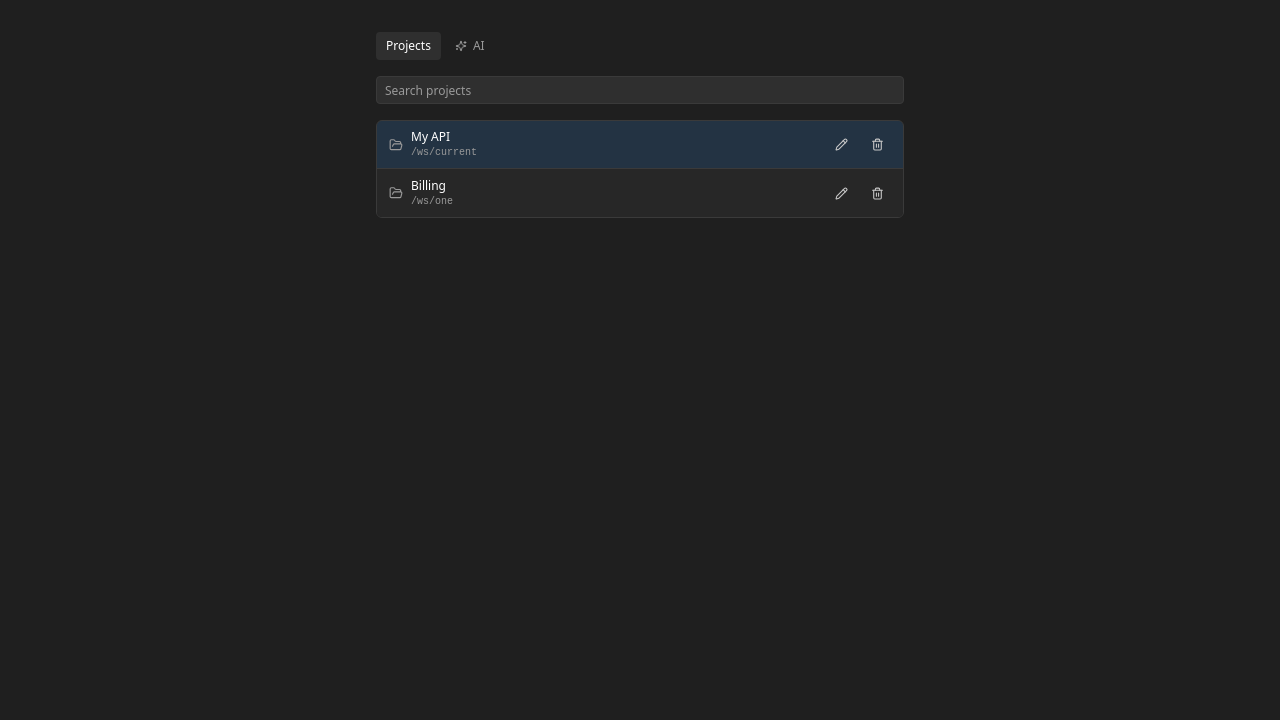
Test: Dashboard › removes a project from the list without deleting files
Expected: the text "Billing" is shown, 411,176 -> 446,194
Click the 2nd button titled "Delete project" at coordinates (877, 193), box 863,179 -> 891,207
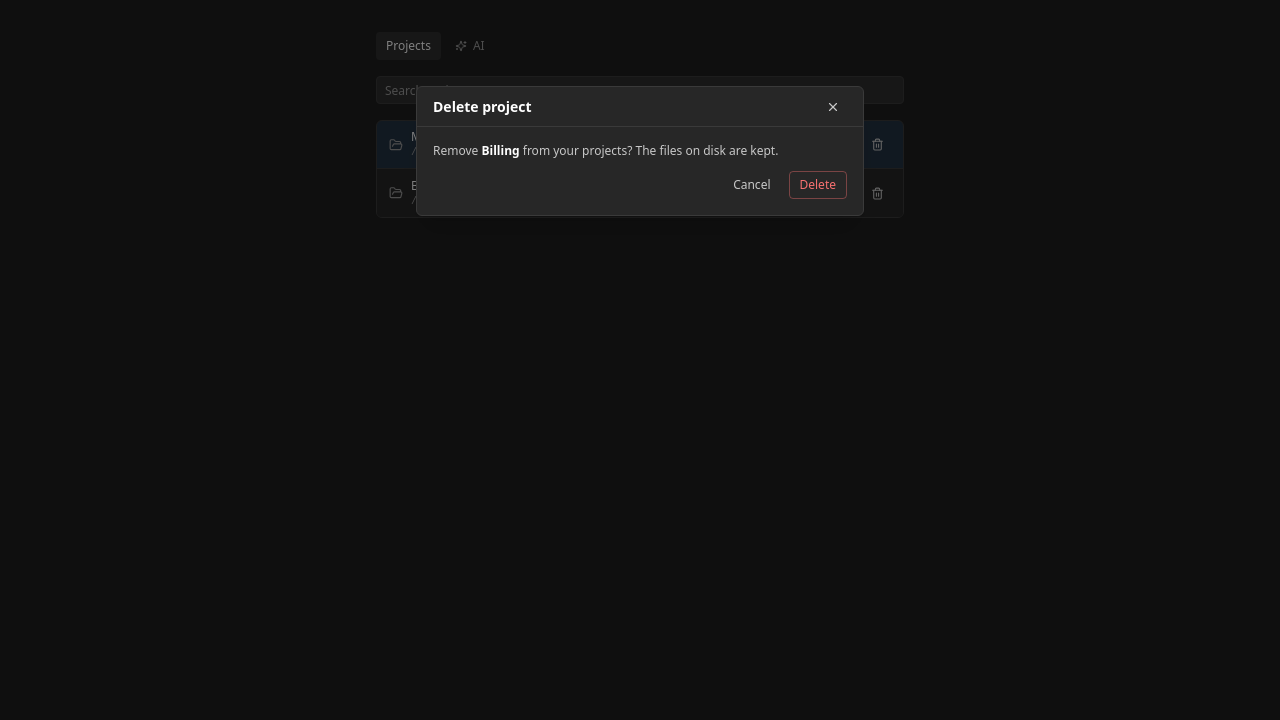
Result: the text "Delete project" is shown at 433,97 -> 532,117
Click the button "Delete" at coordinates (818, 185), box 788,171 -> 847,199
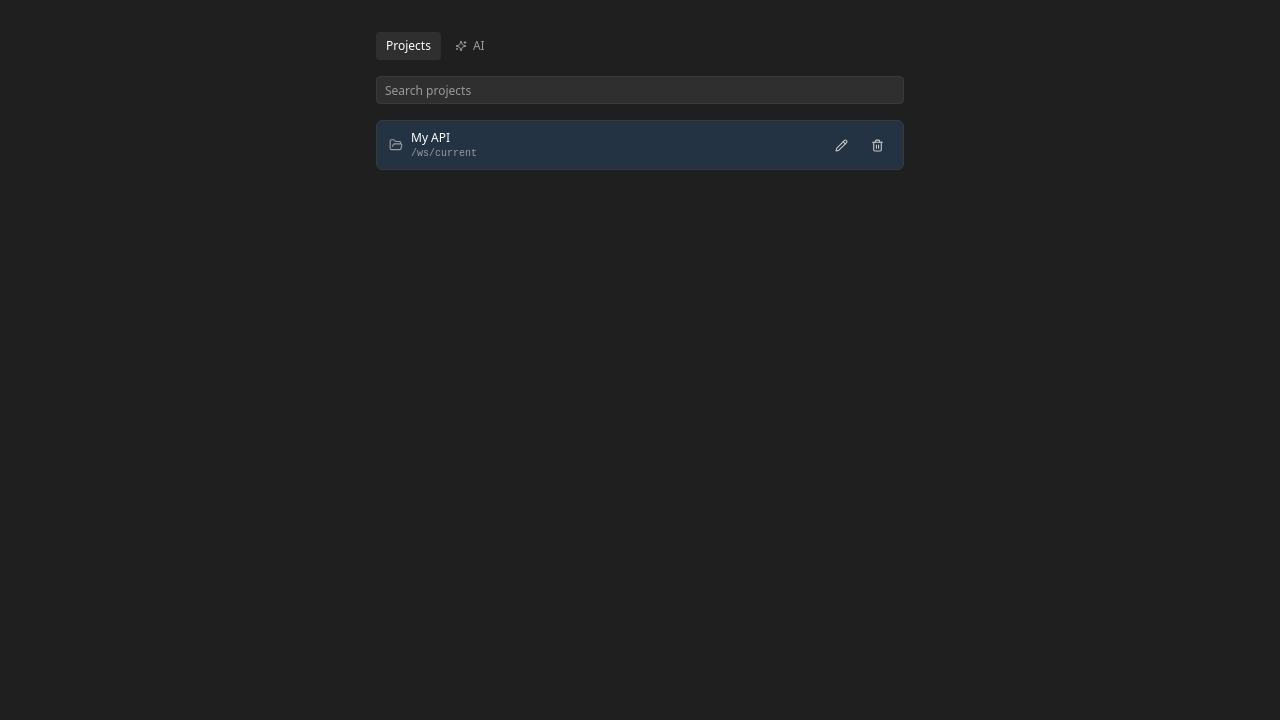
Result: the button "Billing" is gone
